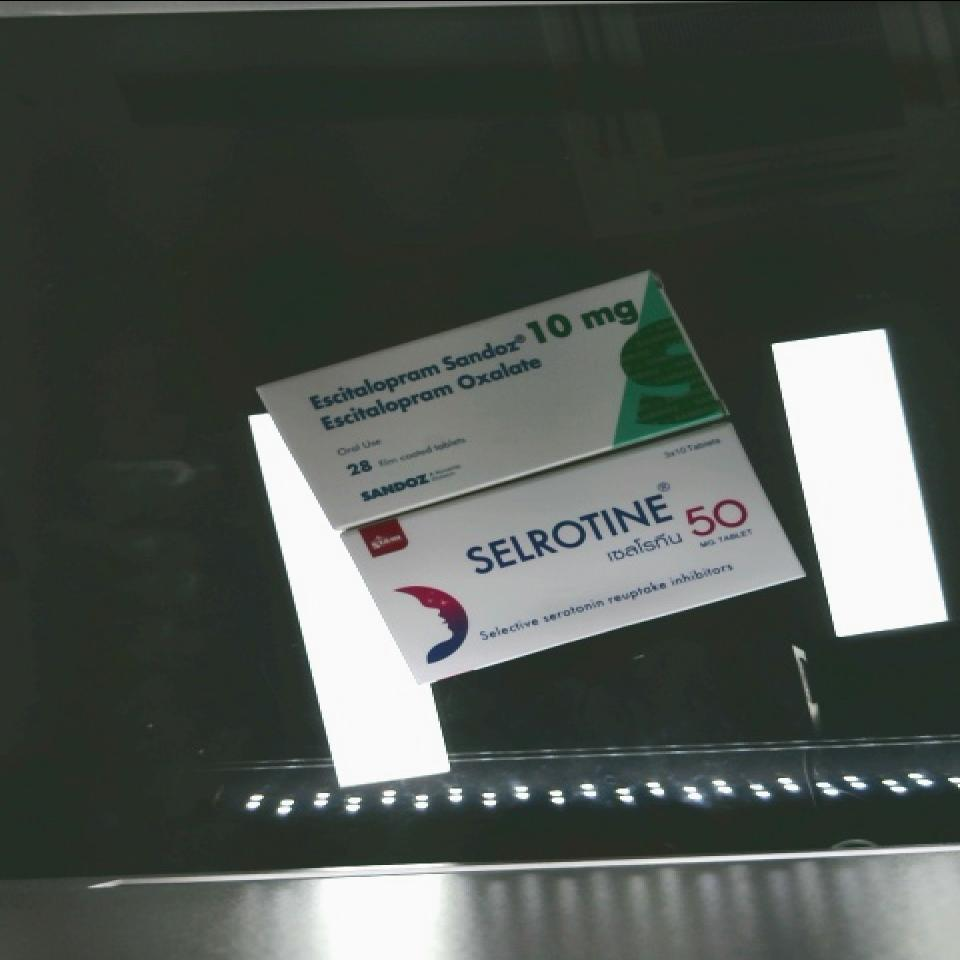medicine_box: (255, 259, 725, 539), (341, 411, 804, 694)
medicine_label_obb: (279, 271, 665, 455), (440, 446, 763, 607)
